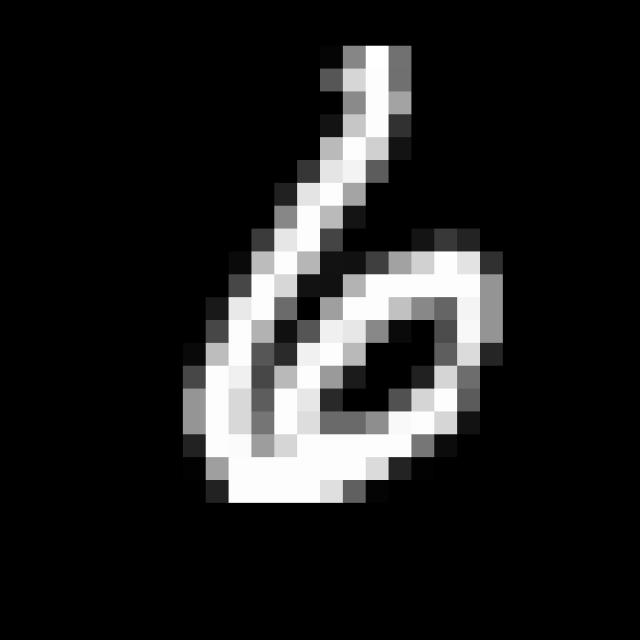six -6-: (185, 23, 515, 524)
